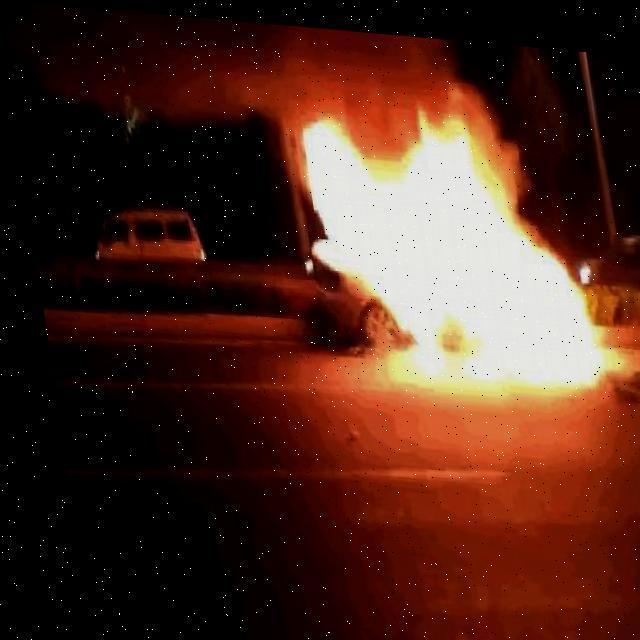Fire: (292, 103, 602, 386)
